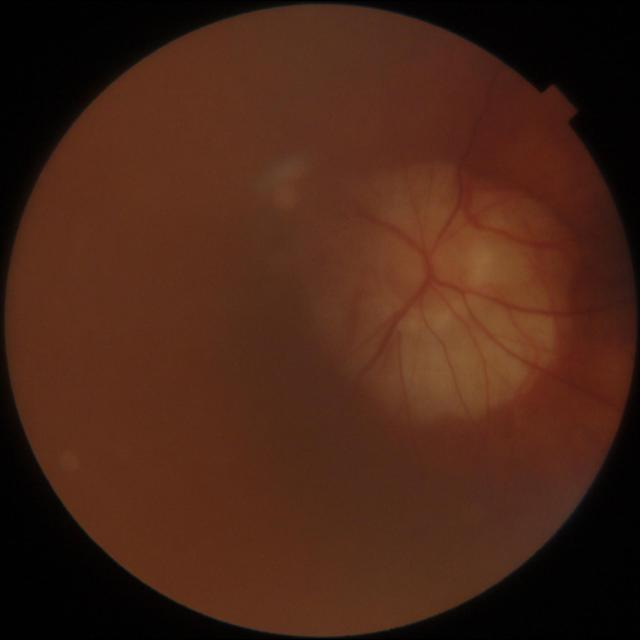OD: (379, 219, 479, 314)
